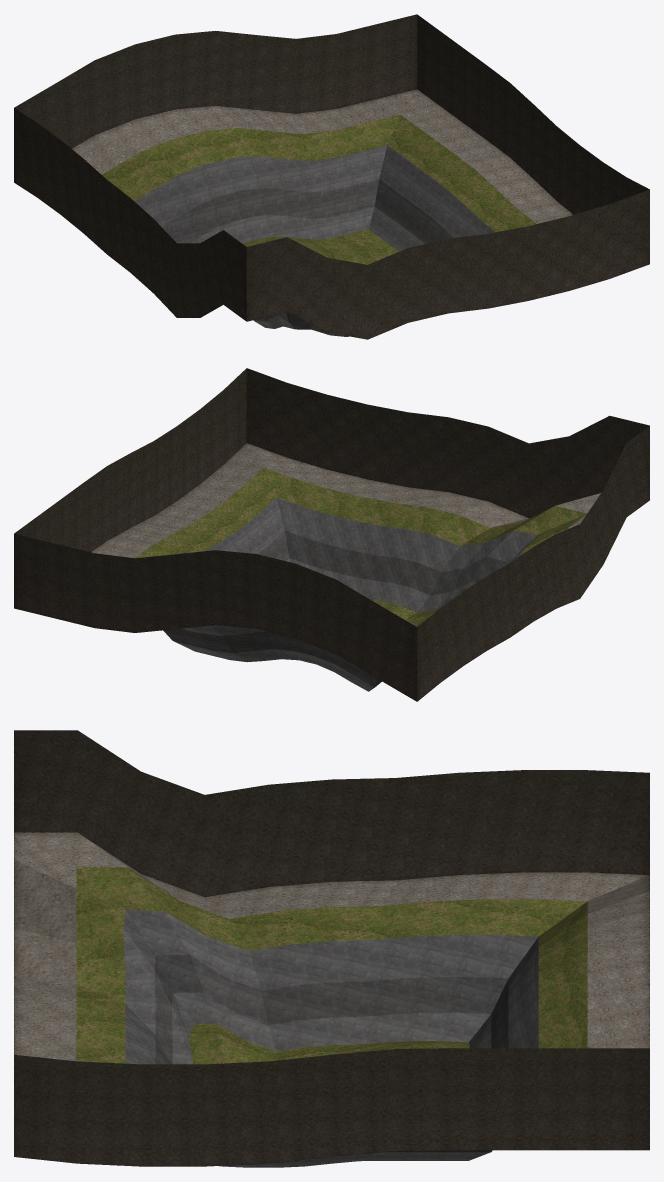
The model's file is terreno.dae.
The picture shows the model from 3 angles, top to bottom: view 1: azimuth 30°, elevation 25°; view 2: azimuth 150°, elevation 25°; view 3: azimuth 270°, elevation 25°; orthographic projection. The views are drawn at different scales.
Visible parts, largest first — view 1: Terreno-col; view 2: Terreno-col; view 3: Terreno-col.
Part boxes in pixels (x1,y1,x2,y2): Terreno-col: (14,14,649,339); Terreno-col: (14,368,649,701); Terreno-col: (14,730,649,1167).
Size of the model in its own units: 93.71 by 93.71 by 41.5.
Materials: 1 (1 with a texture image).
